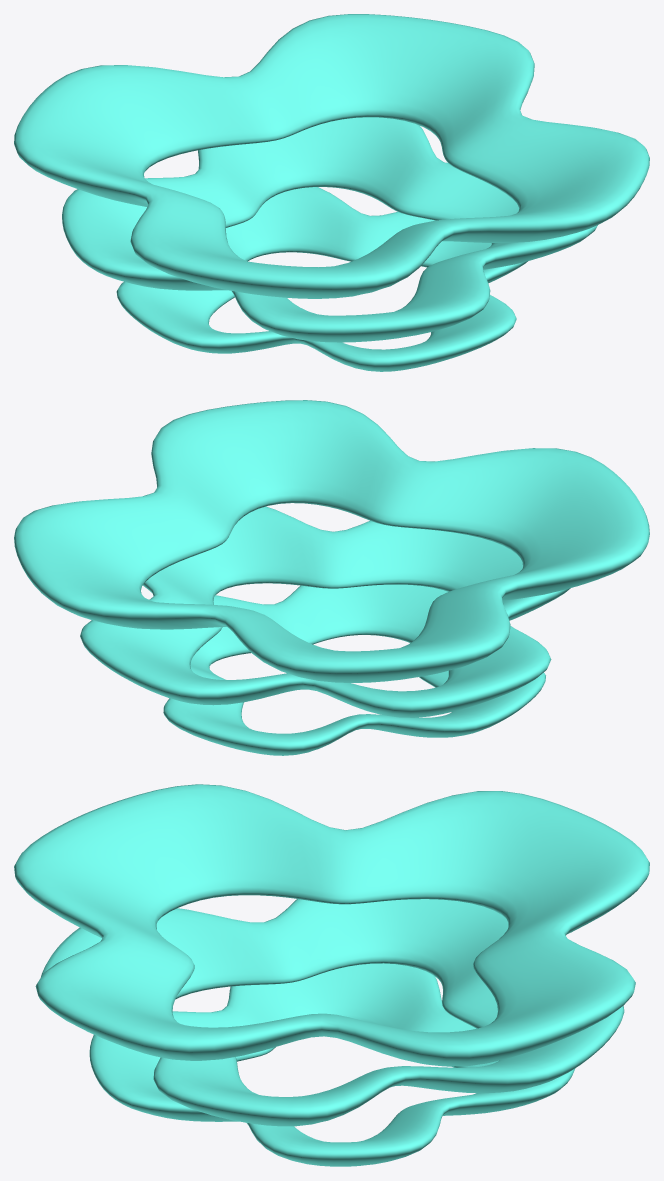
The model's file is grassaPetali3.obj.
3 renders of one model, top to bottom at view 1: azimuth 30°, elevation 25°; view 2: azimuth 150°, elevation 25°; view 3: azimuth 270°, elevation 25°, orthographic. The views are drawn at different scales.
Parts seen in each view (by area): view 1: Torus.001; view 2: Torus.001; view 3: Torus.001.
Part boxes in pixels (<box>): Torus.001: <box>14,14,649,371</box>; Torus.001: <box>14,400,649,755</box>; Torus.001: <box>14,784,649,1166</box>.
Size of the model in its own units: 0.9516 by 0.2961 by 0.9569.
